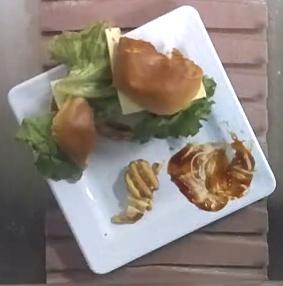bun: (52, 97, 96, 166)
burger: (112, 36, 200, 113)
fries: (113, 159, 158, 223)
